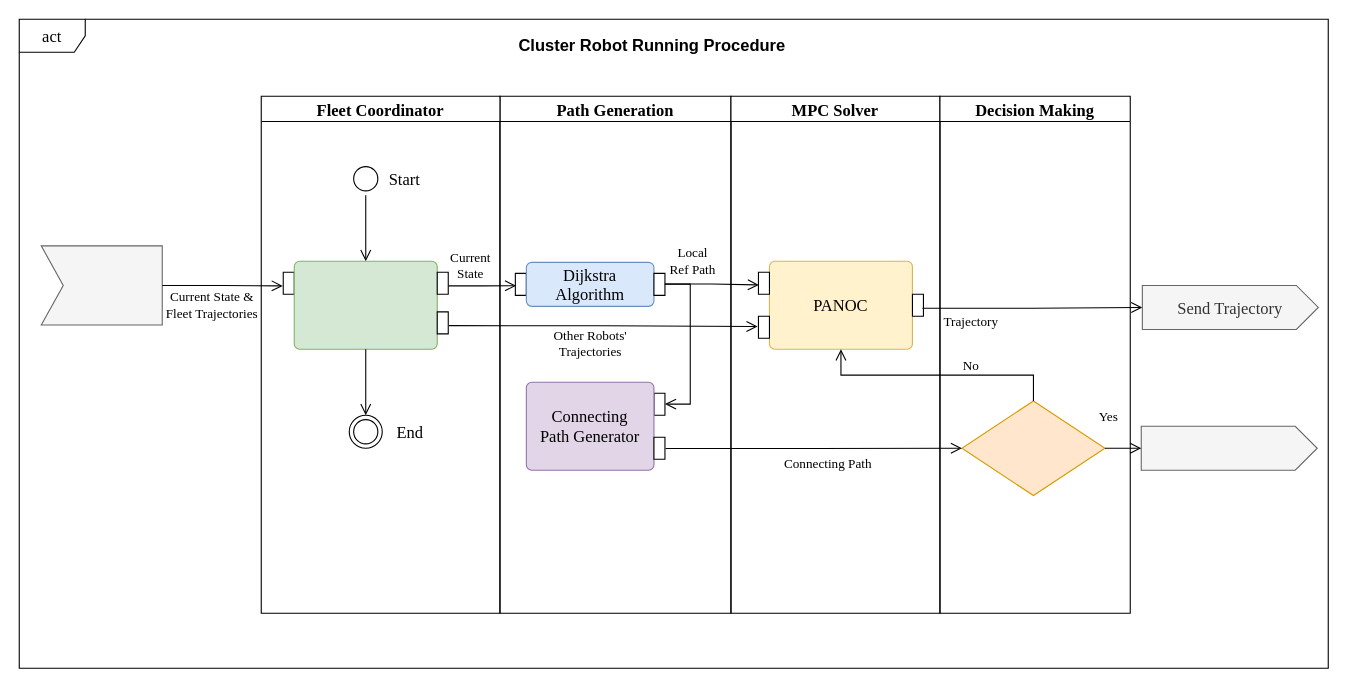
Some shapes in this 1348 by 688 pixel diagram are drawn without their labels. The shapes that lost their labels are listed below. From the top down, each one's centre as x and y in pixels, then its label:
At [101,285]: "Localization and Fleet Trajectory Sharing".
At [365,304]: "Control Loop".
At [1033,448]: "Connecting Path OK?".
At [1228,447]: "Send Connecting Path".
